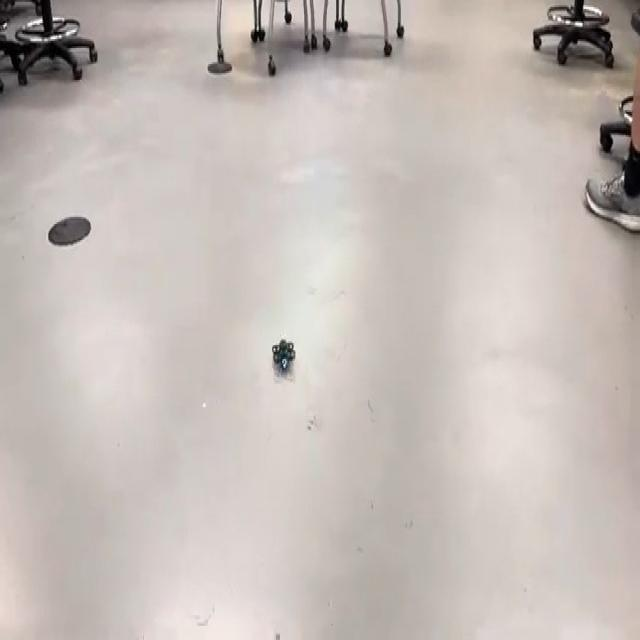drone: (264, 322, 302, 386)
